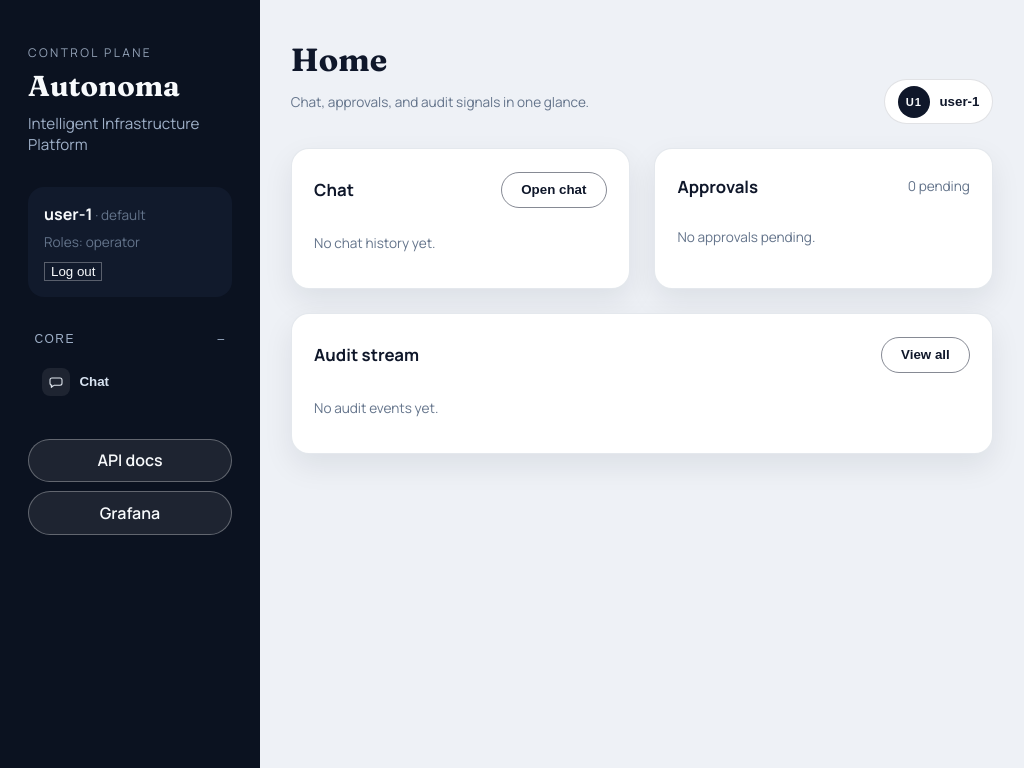
Test: App auth flow › renders chat tool results in the conversation
Click the button "Chat": coordinates (130, 382) [28,357,232,407]
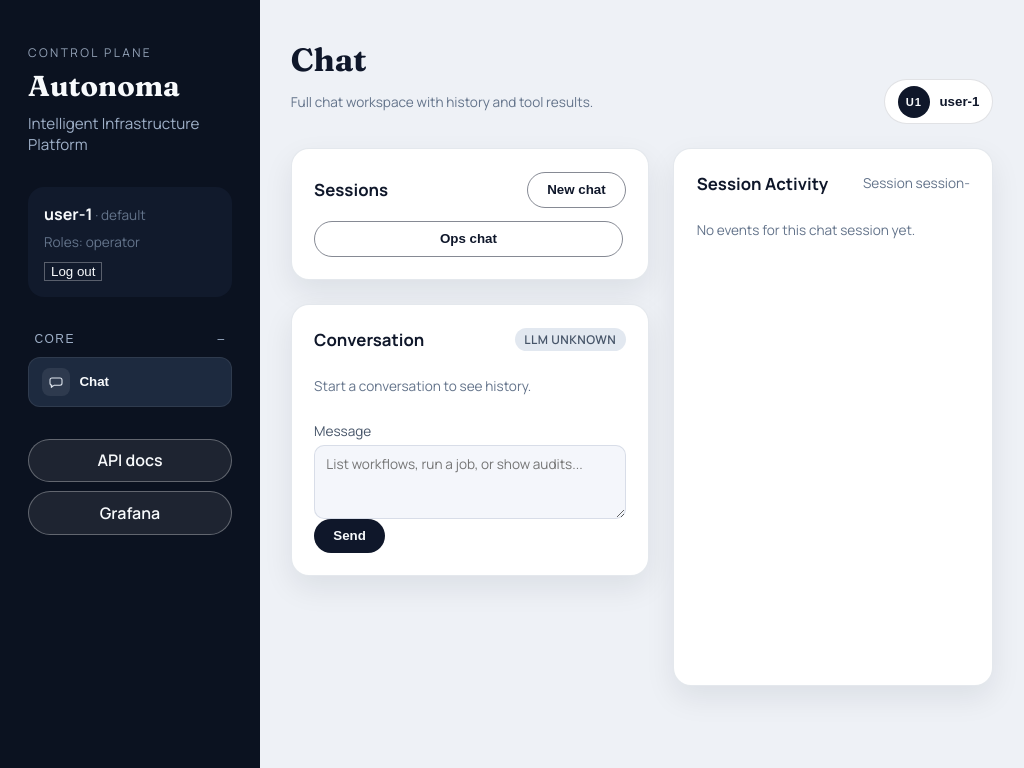
Expected: the button "Ops chat" is shown
Click the button "Ops chat": coordinates (468, 239) [314,221,623,257]
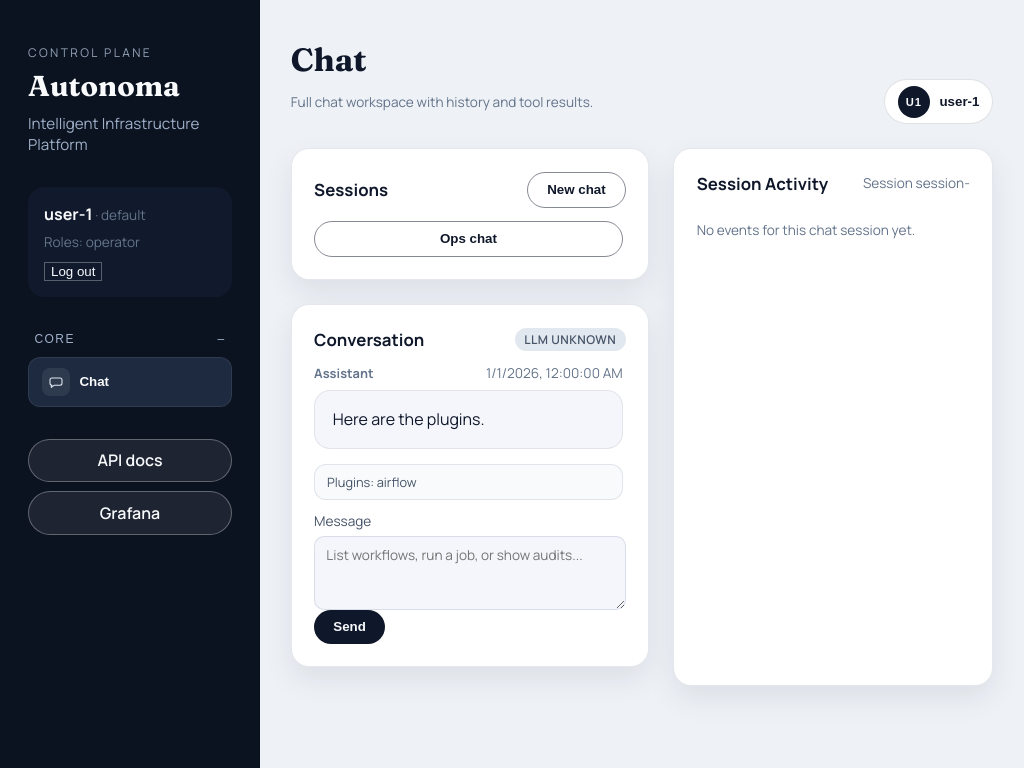
Expected: the text "Plugins: airflow" is shown, [327,473,416,491]
